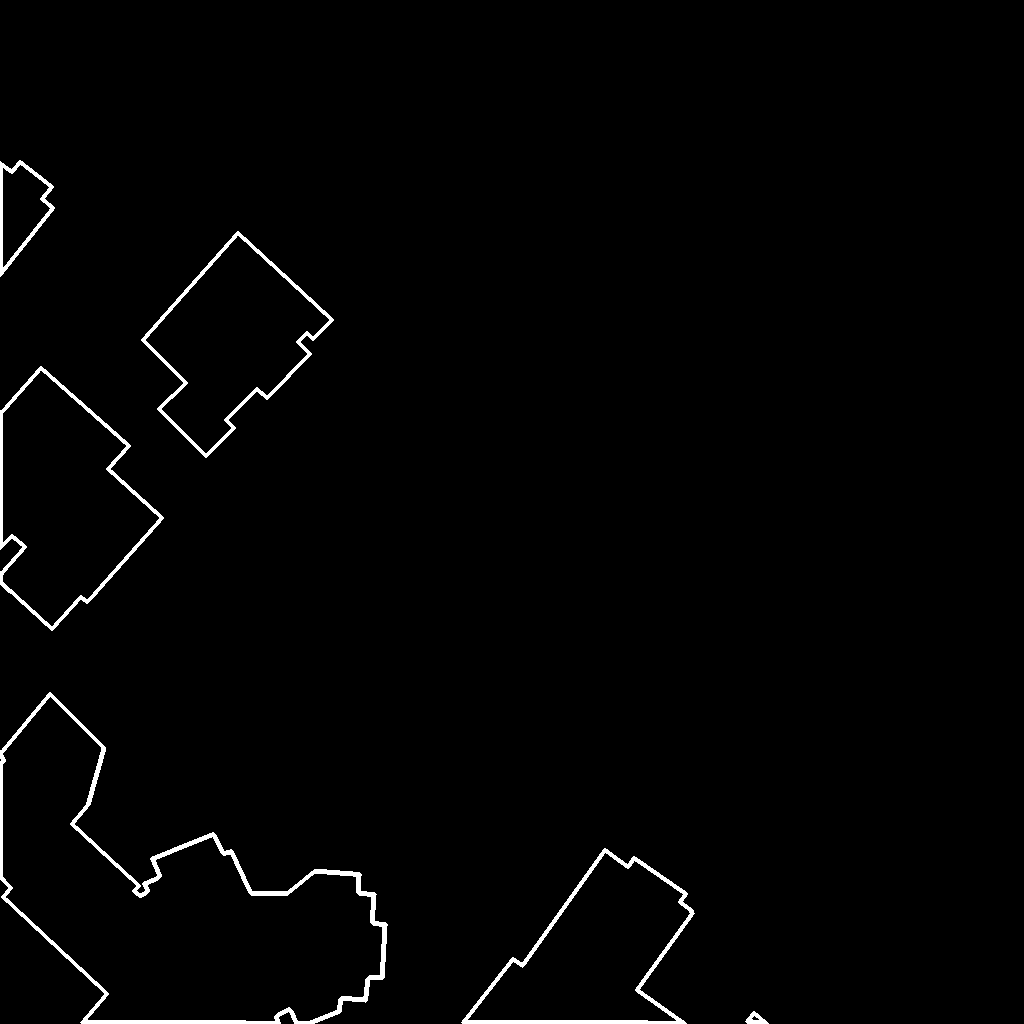building: (0, 694, 386, 1024), (0, 368, 163, 630), (143, 233, 333, 457), (463, 850, 694, 1024), (0, 162, 54, 276), (747, 1013, 768, 1024)
